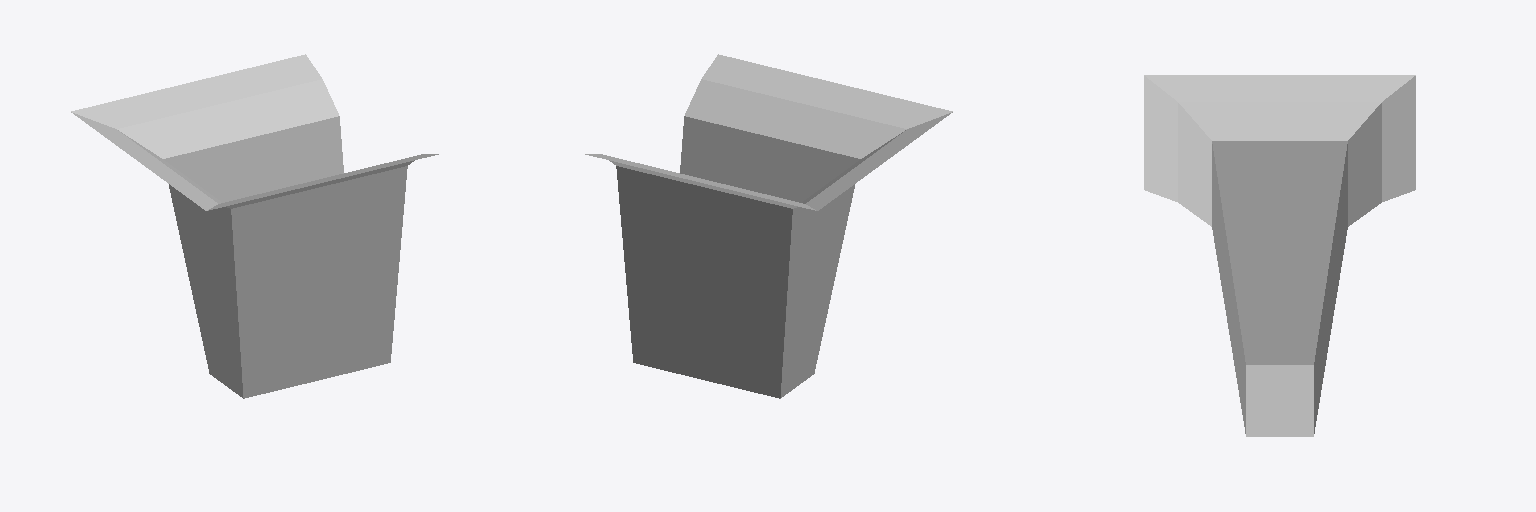
File: Sand1a.obj
3 views of the same model, side by side, from view 1: azimuth 30°, elevation 25°; view 2: azimuth 150°, elevation 25°; view 3: azimuth 270°, elevation 25° (orthographic).
Parts seen in each view (by area): view 1: Grid_Grid.008_Grid_Grid.007; view 2: Grid_Grid.008_Grid_Grid.007; view 3: Grid_Grid.008_Grid_Grid.007.
Part boxes in pixels (x1,y1,x2,y2): Grid_Grid.008_Grid_Grid.007: (71,54,438,398); Grid_Grid.008_Grid_Grid.007: (585,54,952,398); Grid_Grid.008_Grid_Grid.007: (1144,75,1415,436).
Bounding box in the file's own units: 1 × 1 × 1.